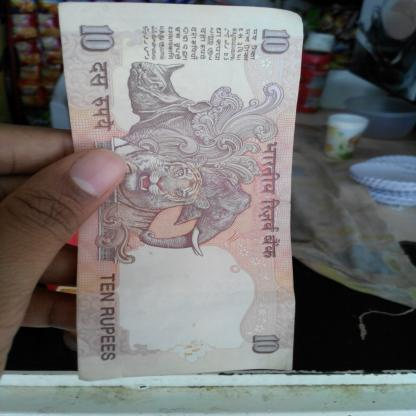Old10Back: (58, 2, 304, 380)
